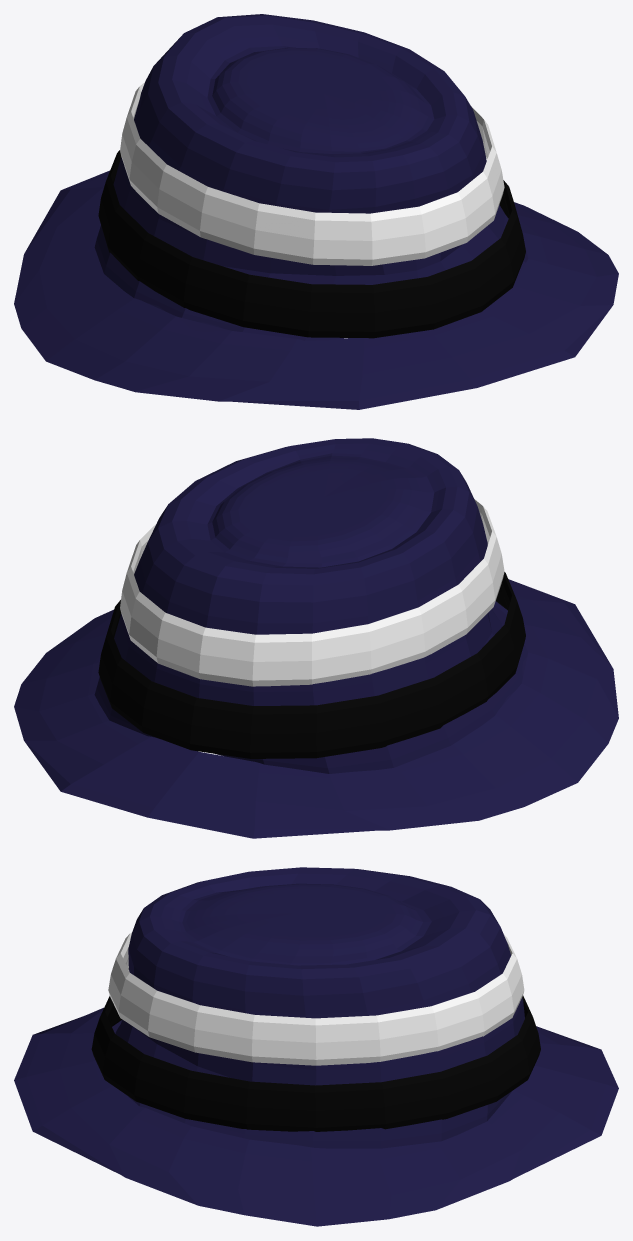
The model's file is hat.fbx.
The picture shows the model from 3 angles, top to bottom: view 1: azimuth 30°, elevation 25°; view 2: azimuth 150°, elevation 25°; view 3: azimuth 270°, elevation 25°; orthographic projection. The views are drawn at different scales.
Parts seen in each view (by area): view 1: Cylinder, Cylinder.003, Cylinder.002; view 2: Cylinder, Cylinder.003, Cylinder.002; view 3: Cylinder, Cylinder.003, Cylinder.002.
Part boxes in pixels (<box>): Cylinder: <box>14,14,618,409</box>; Cylinder.003: <box>98,150,525,338</box>; Cylinder.002: <box>120,82,504,265</box>; Cylinder: <box>14,438,618,838</box>; Cylinder.003: <box>98,572,525,758</box>; Cylinder.002: <box>120,499,504,686</box>; Cylinder: <box>14,867,618,1226</box>; Cylinder.003: <box>91,995,540,1131</box>; Cylinder.002: <box>108,932,524,1065</box>.
Size of the model in its own units: 115 by 44.44 by 123.
